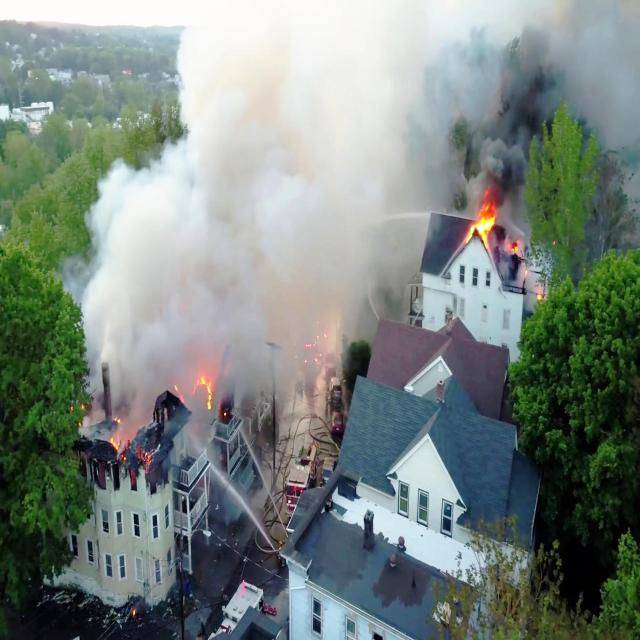Fire: (456, 178, 554, 307)
Smoke: (181, 1, 640, 170), (68, 174, 438, 374), (70, 390, 156, 481), (167, 371, 236, 438)
